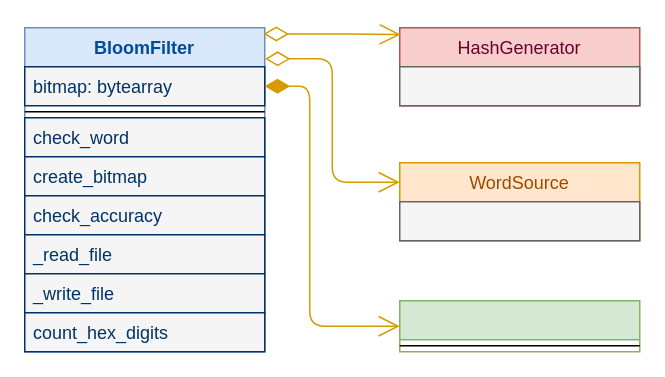
Some shapes in this 665 by 377 pixel diagram are drawn without their labels. Here are the shapes that lost their labels. From the top down, the centre of each, then its label:
point 519,85: get_hash
point 519,220: get_words
point 519,325: bytearray
